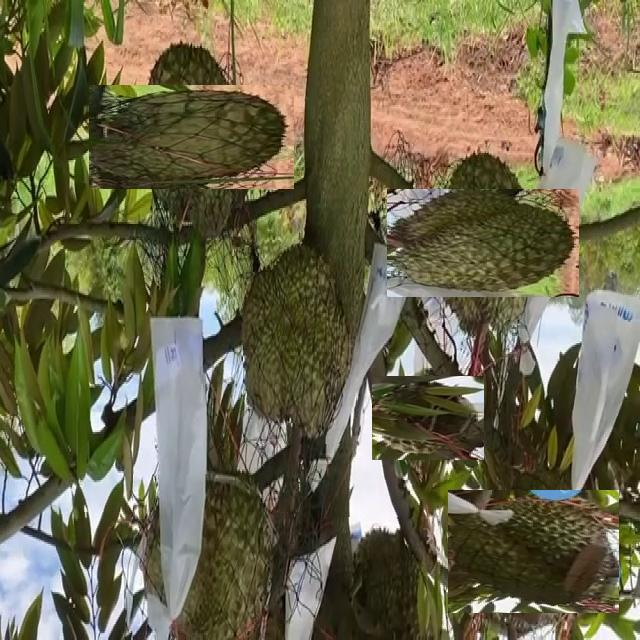durian: (134, 474, 282, 640), (114, 60, 269, 215), (408, 168, 559, 319), (244, 244, 358, 444), (460, 478, 607, 625), (342, 517, 439, 640), (379, 369, 478, 467)
